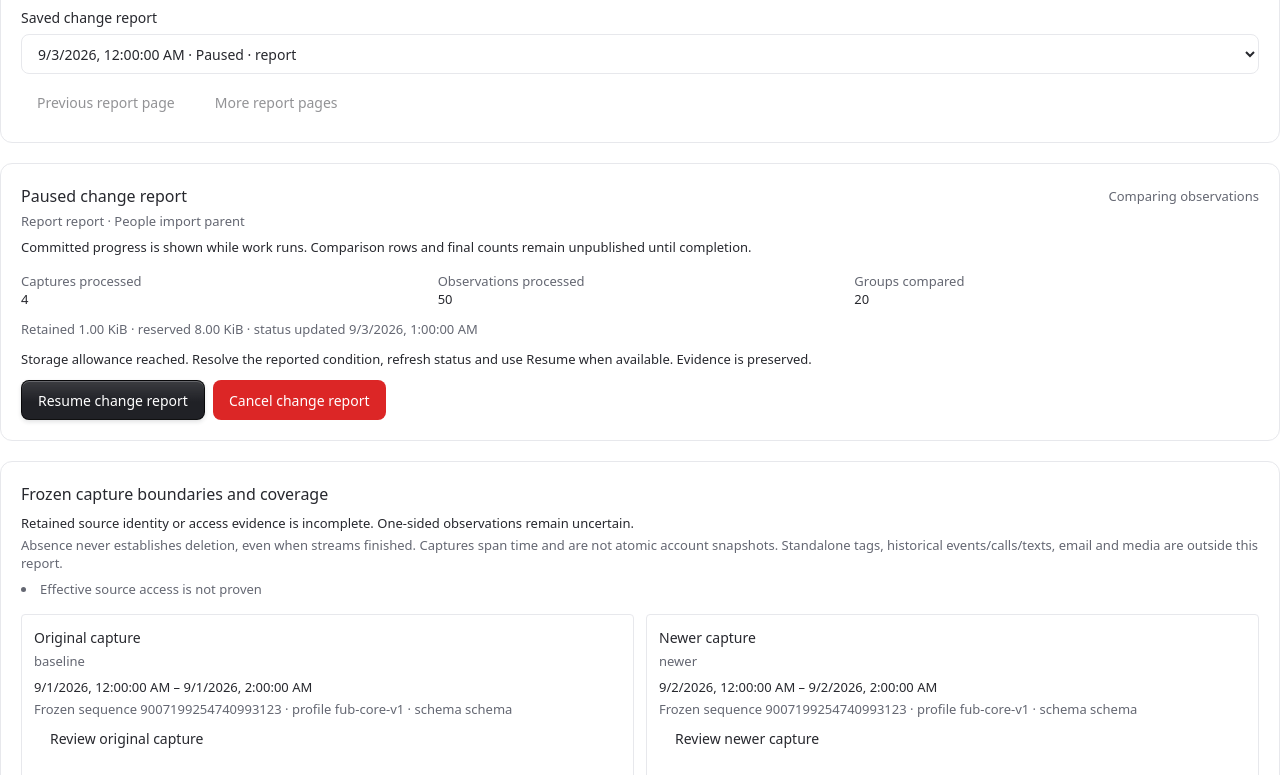
Test: core change report workflow › only publishes sealed completed rows and requires confirmation for cancellation
(page scrolled)
Click the button "Resume change report": x=113, y=400 [21,380,205,420]
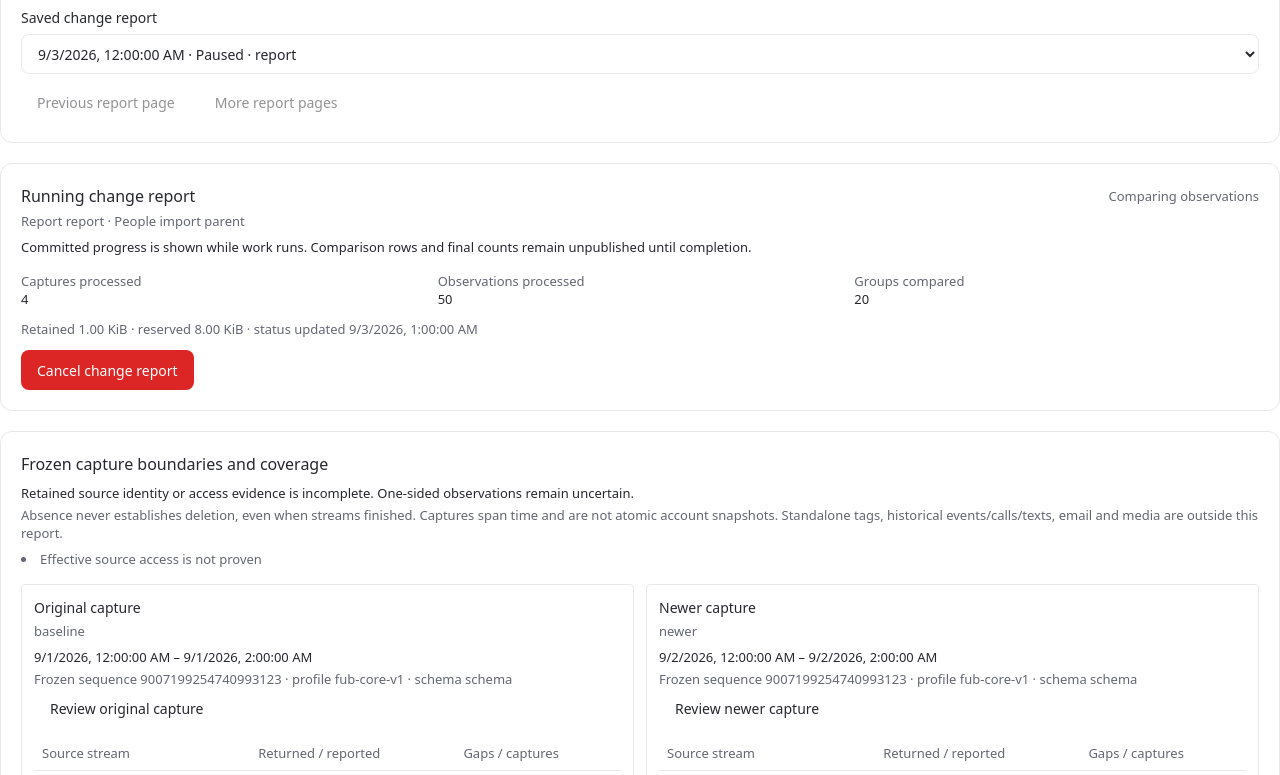
Now the text "Running change report" is shown, box [21,184,195,208]
Click the button "Cancel change report": x=107, y=370 [21,350,194,390]
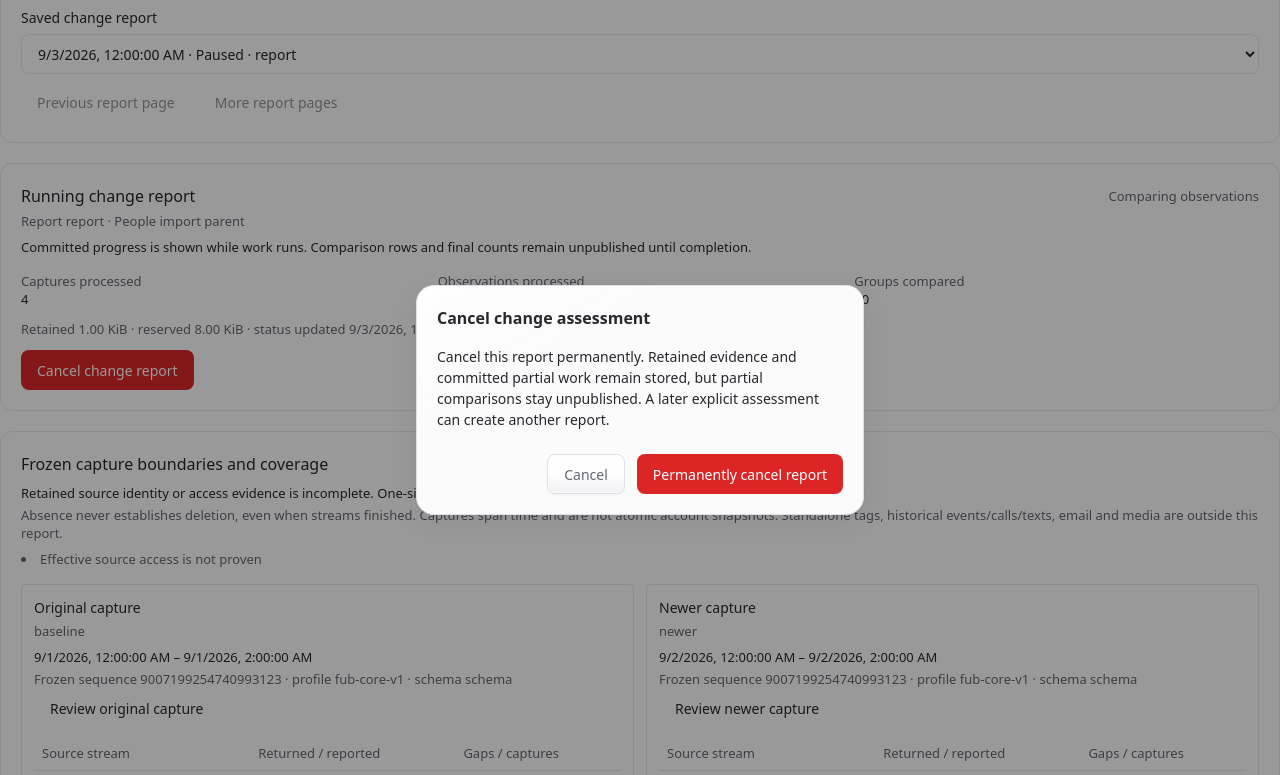
Now the button "Permanently cancel report" is shown
Click the button "Permanently cancel report": x=740, y=474 [637,454,843,494]
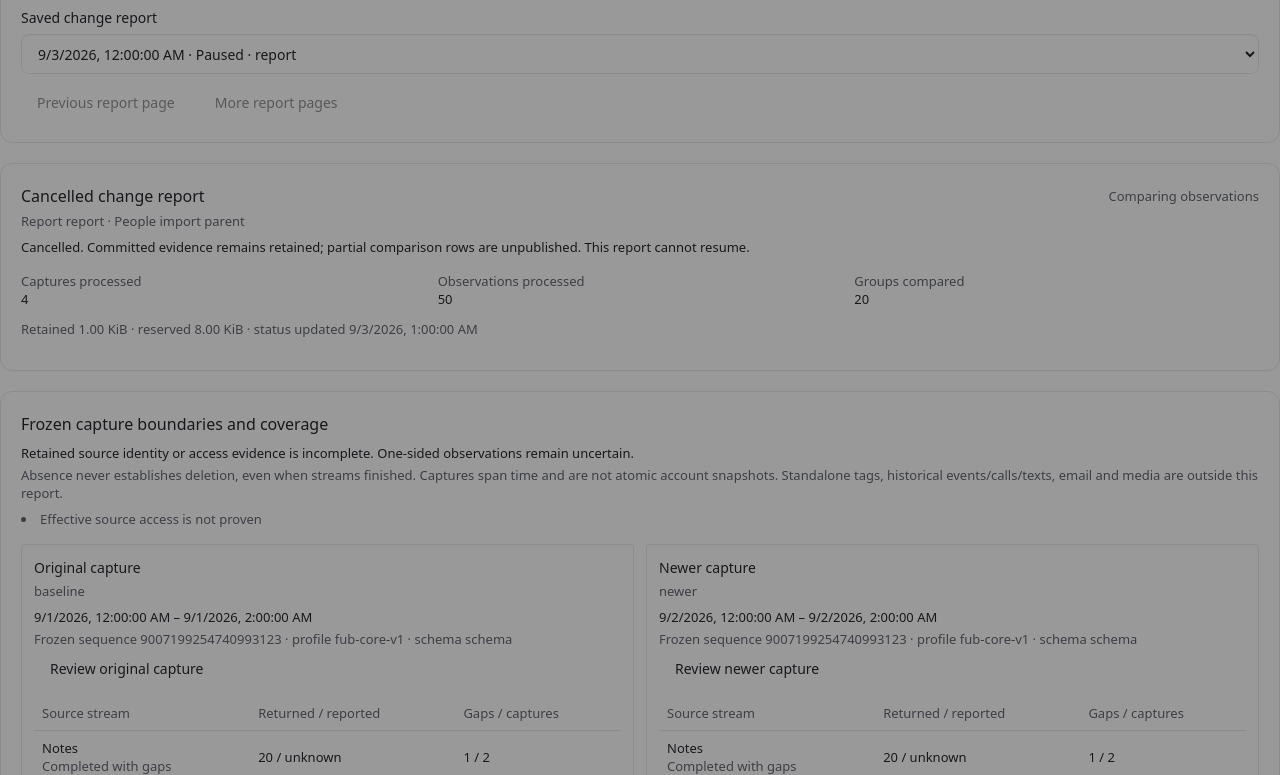
Now the text "Cancelled change report" is shown, box [21,184,205,208]
